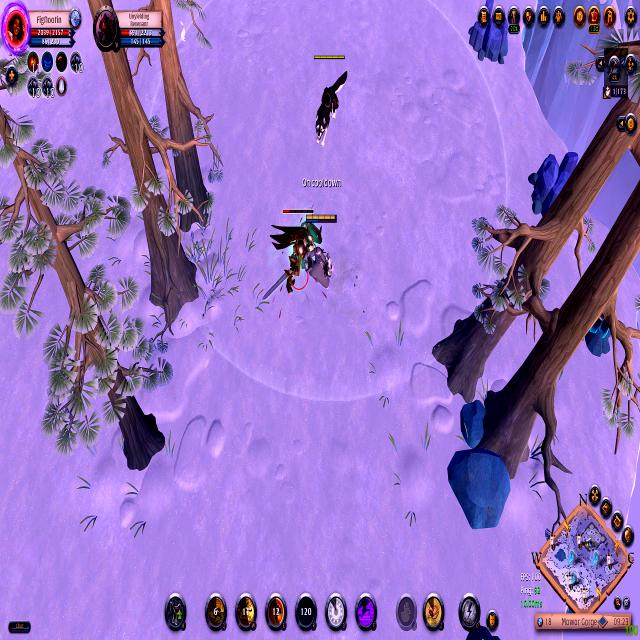ore: (262, 203, 317, 306)
player: (582, 309, 614, 362)
red: (306, 212, 338, 293)
tree: (527, 144, 581, 220), (464, 0, 514, 62)
